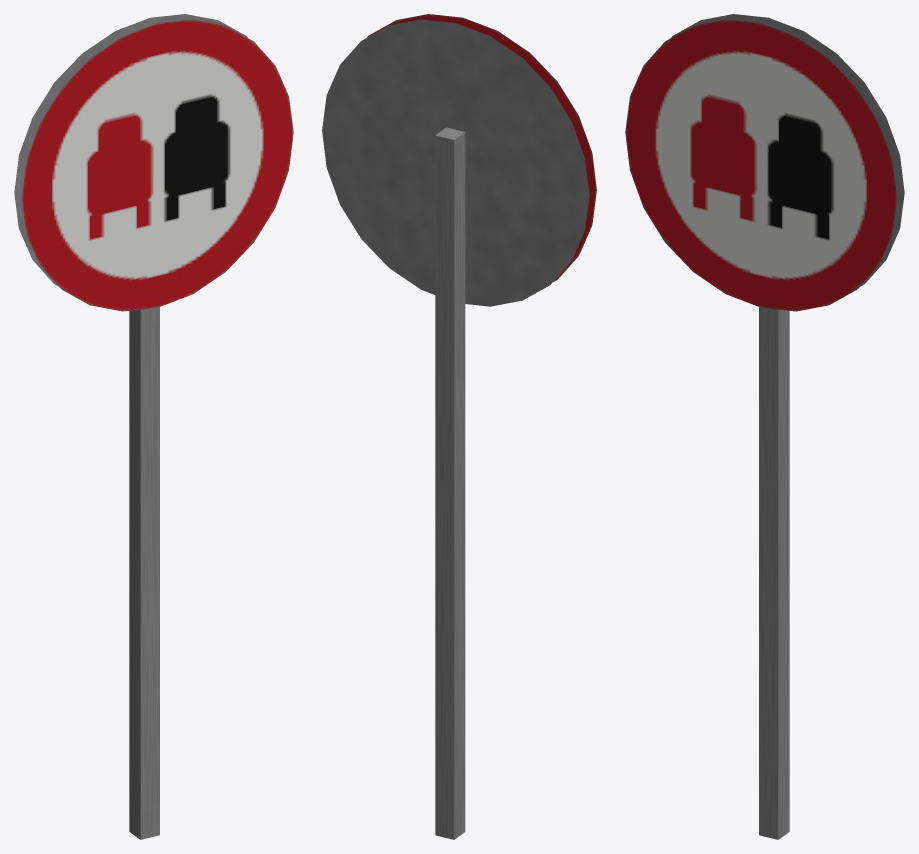
File: SM_sign_nopass.fbx
The picture shows the model from 3 angles, left to right: view 1: azimuth 30°, elevation 25°; view 2: azimuth 150°, elevation 25°; view 3: azimuth 330°, elevation 25°; orthographic projection.
Parts seen in each view (by area): view 1: SM_sign_nopass; view 2: SM_sign_nopass; view 3: SM_sign_nopass.
Part boxes in pixels (<box>): SM_sign_nopass: <box>14,14,293,839</box>; SM_sign_nopass: <box>322,14,596,839</box>; SM_sign_nopass: <box>625,14,904,839</box>.
Bounding box in the file's own units: 0.84 × 2.42 × 0.1.
